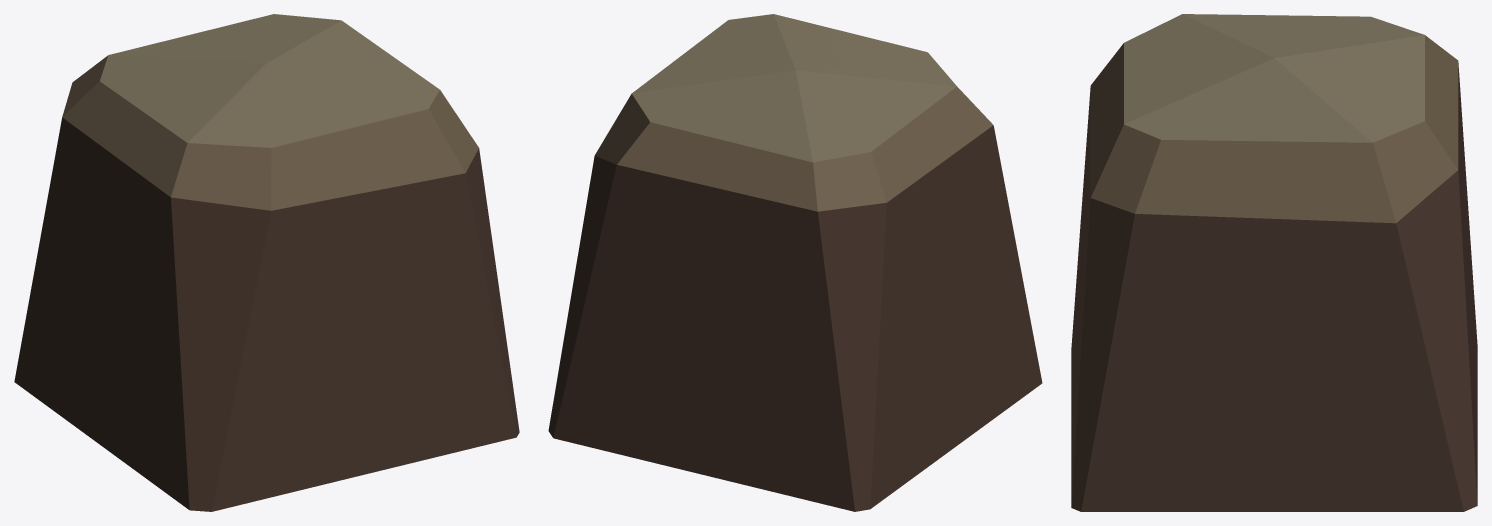
The model's file is natural-block-stone.obj.
The picture shows the model from 3 angles, left to right: view 1: azimuth 30°, elevation 25°; view 2: azimuth 150°, elevation 25°; view 3: azimuth 270°, elevation 25°; orthographic projection. The views are drawn at different scales.
Parts seen in each view (by area): view 1: natural-block-stone; view 2: natural-block-stone; view 3: natural-block-stone.
Boxes of the visible parts, x1,y1,x2,y2 form: natural-block-stone: [14, 14, 519, 511]; natural-block-stone: [548, 14, 1042, 511]; natural-block-stone: [1071, 14, 1477, 511].
Size of the model in its own units: 1 by 1 by 1.
Materials: 1 (1 with a texture image).
